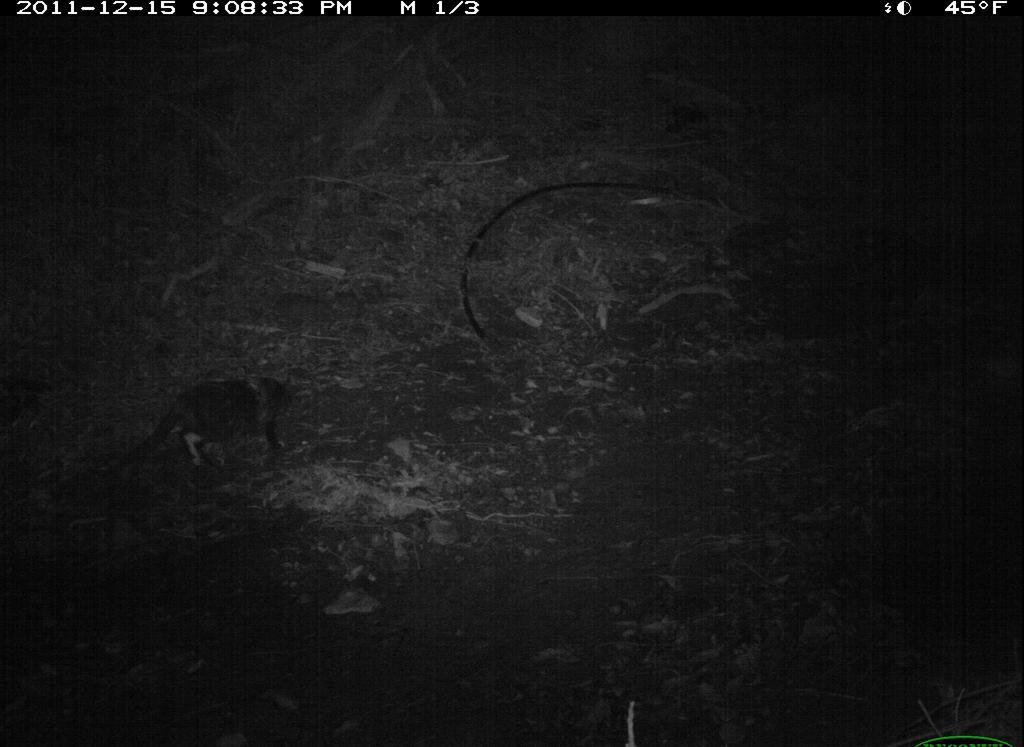cat: (121, 368, 309, 507)
